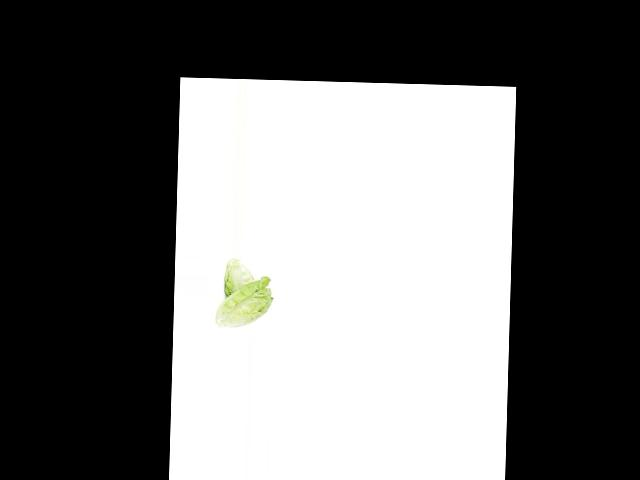lettuce: (220, 256, 256, 298)
